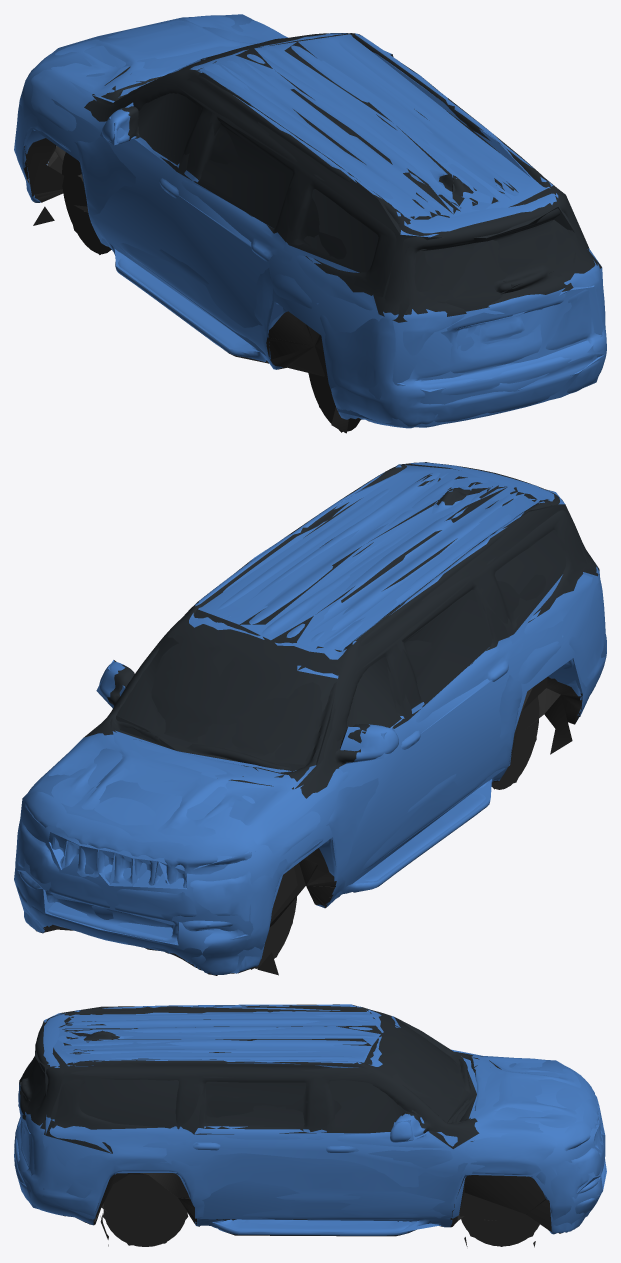
File: jeep-wagoneer.glb
3 renders of one model, top to bottom at view 1: azimuth 30°, elevation 25°; view 2: azimuth 150°, elevation 25°; view 3: azimuth 270°, elevation 25°, orthographic. The views are drawn at different scales.
Parts seen in each view (by area): view 1: body, far; view 2: body, far; view 3: body, far.
Boxes of the visible parts, x1=… form: body: x1=15, y1=15, x2=606, y2=433; far: x1=14, y1=14, x2=604, y2=432; body: x1=15, y1=462, x2=606, y2=975; far: x1=14, y1=462, x2=606, y2=973; body: x1=14, y1=1004, x2=605, y2=1247; far: x1=14, y1=1004, x2=606, y2=1246.
Bounding box in the file's own units: 2.02 × 1.69 × 4.88.
